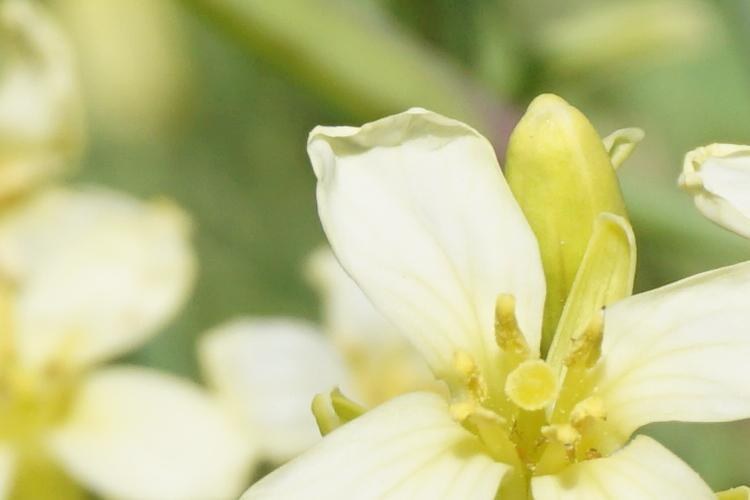bud: (512, 87, 641, 293)
white: (268, 109, 721, 500), (675, 130, 750, 238)
